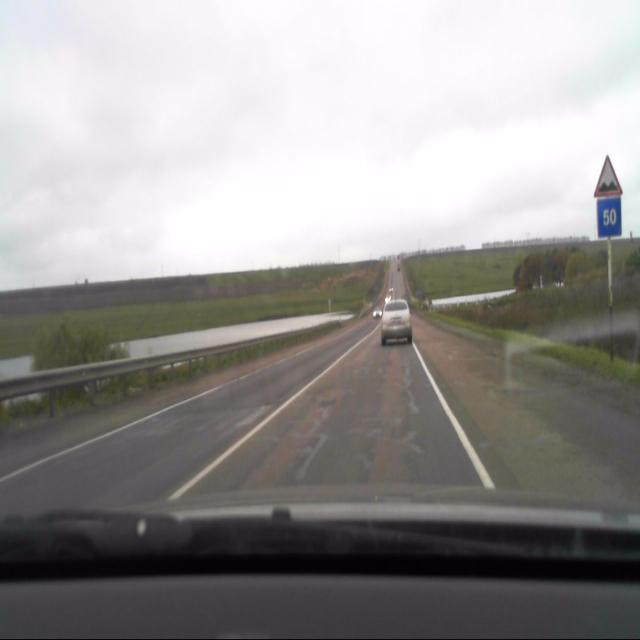object: (606, 240, 615, 363)
road sign: (591, 154, 621, 195), (596, 197, 622, 238)
